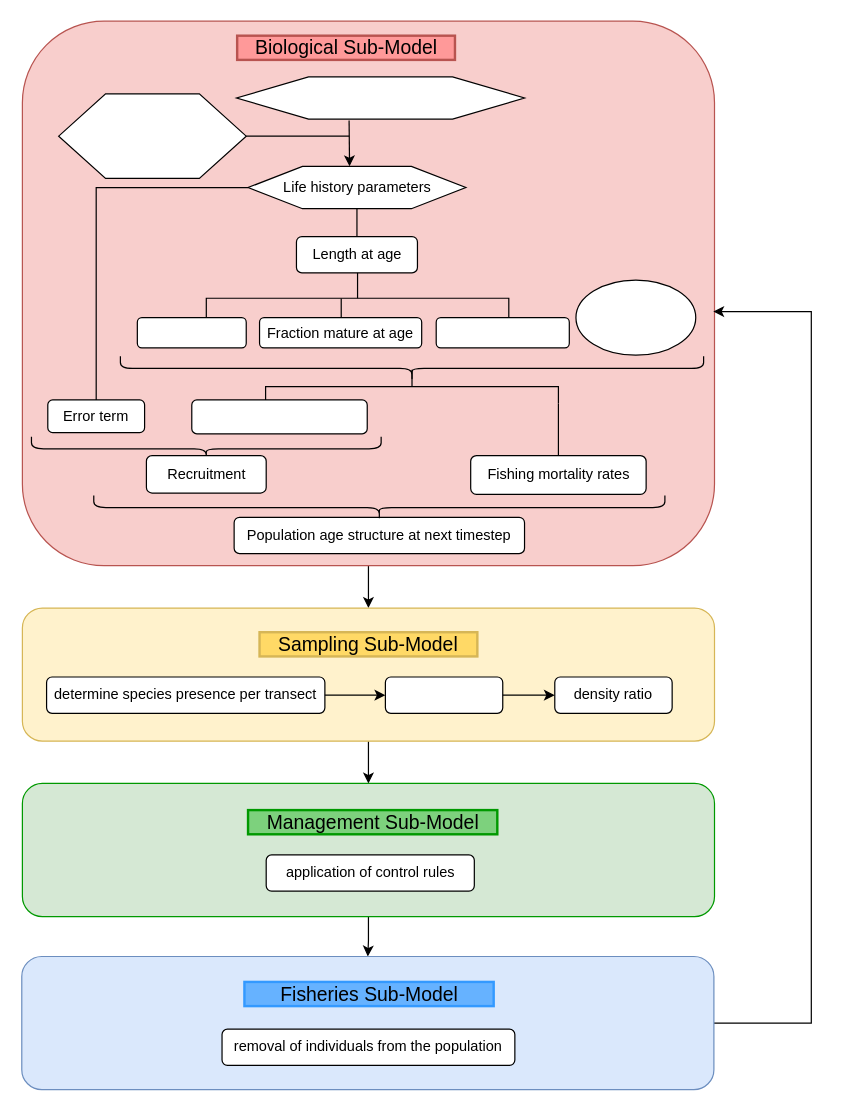
The diagram is 842 pixels wide and 1111 high, and some of its shapes have lost their labels. Here are the shapes that lost their labels. From the top down, the box of each, then its label:
(235, 76, 525, 119): Most recent stock assessment
(57, 93, 246, 178): Most recent stock assessment of a closely related species
(136, 316, 246, 348): Weight at age
(435, 316, 569, 348): Selectivity at age
(575, 279, 696, 355): Population age structure
(191, 399, 367, 434): Spawning stock biomass
(384, 676, 503, 713): species count
